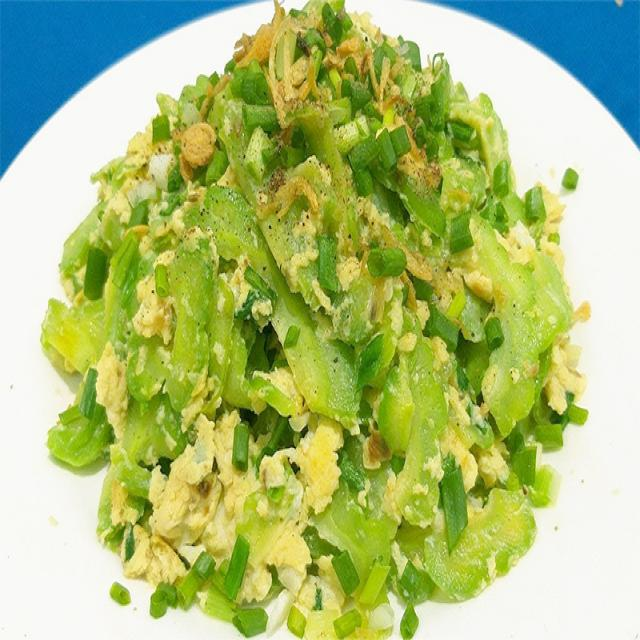kho qua: (41, 0, 590, 639)
